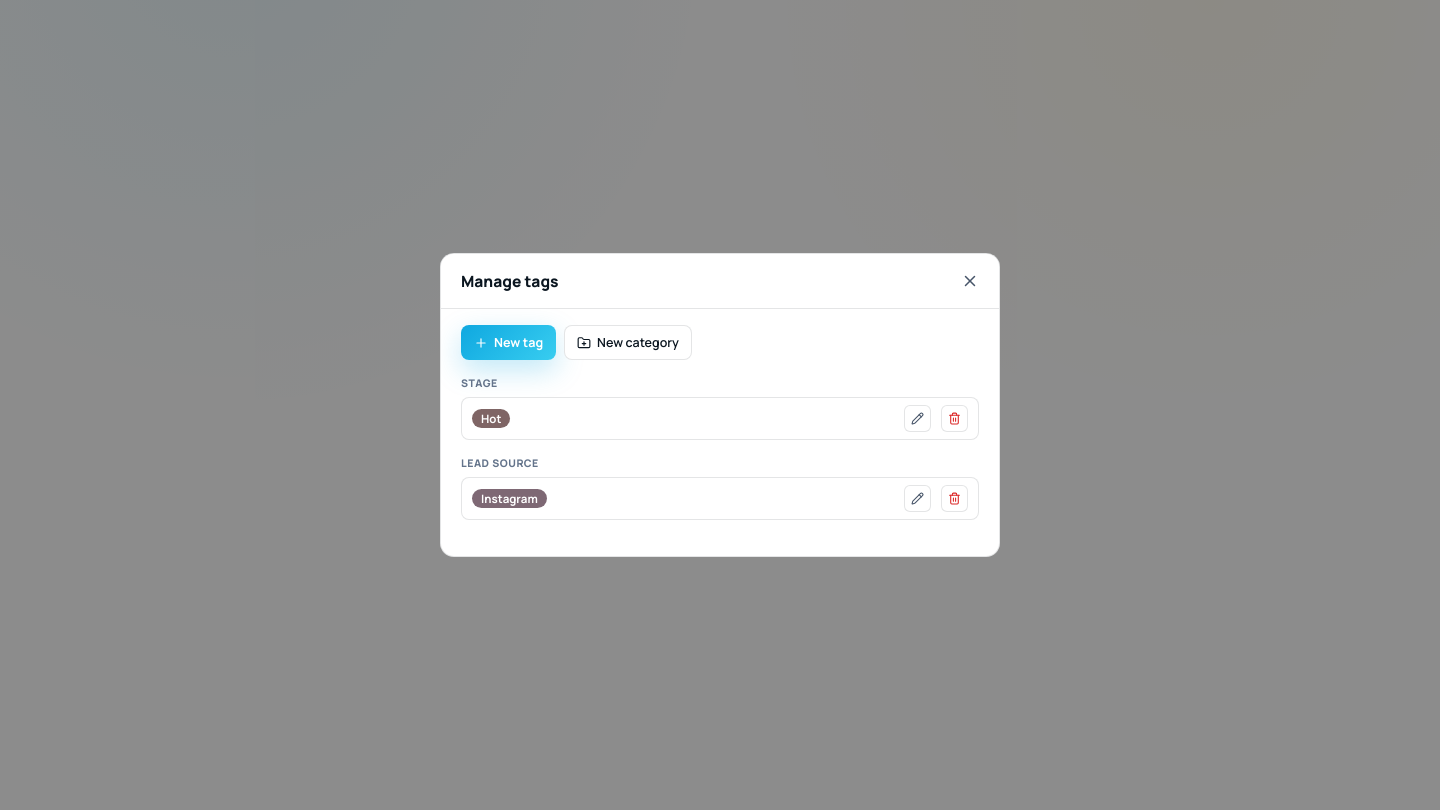
Test: ManageTagsModal › re-enables the form after a SUCCESSFUL save
Click the button "New tag" at {"x": 509, "y": 342}, box [461, 325, 556, 360]
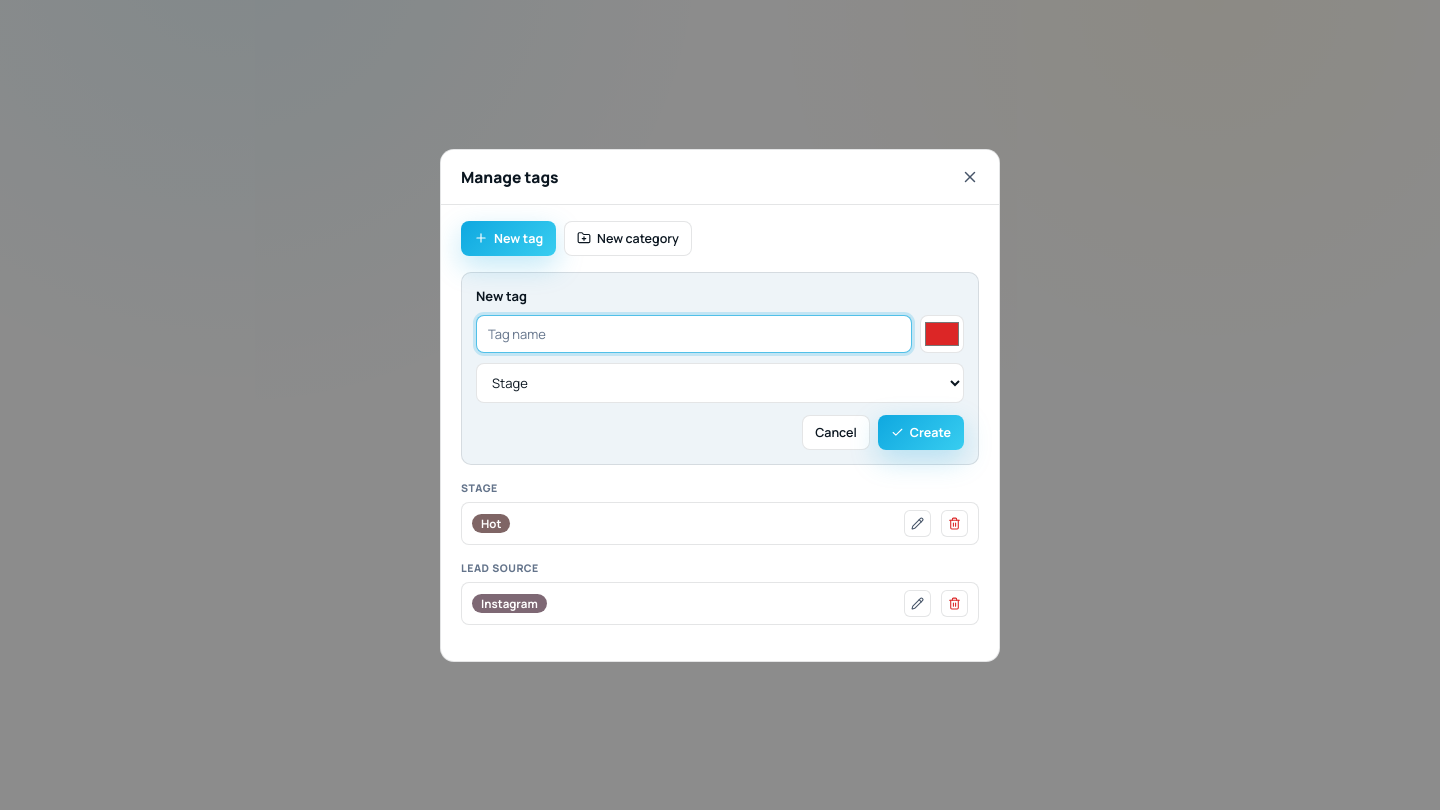
Type "Warm" into the field with placeholder "Tag name" at {"x": 694, "y": 334}, box [476, 314, 912, 352]
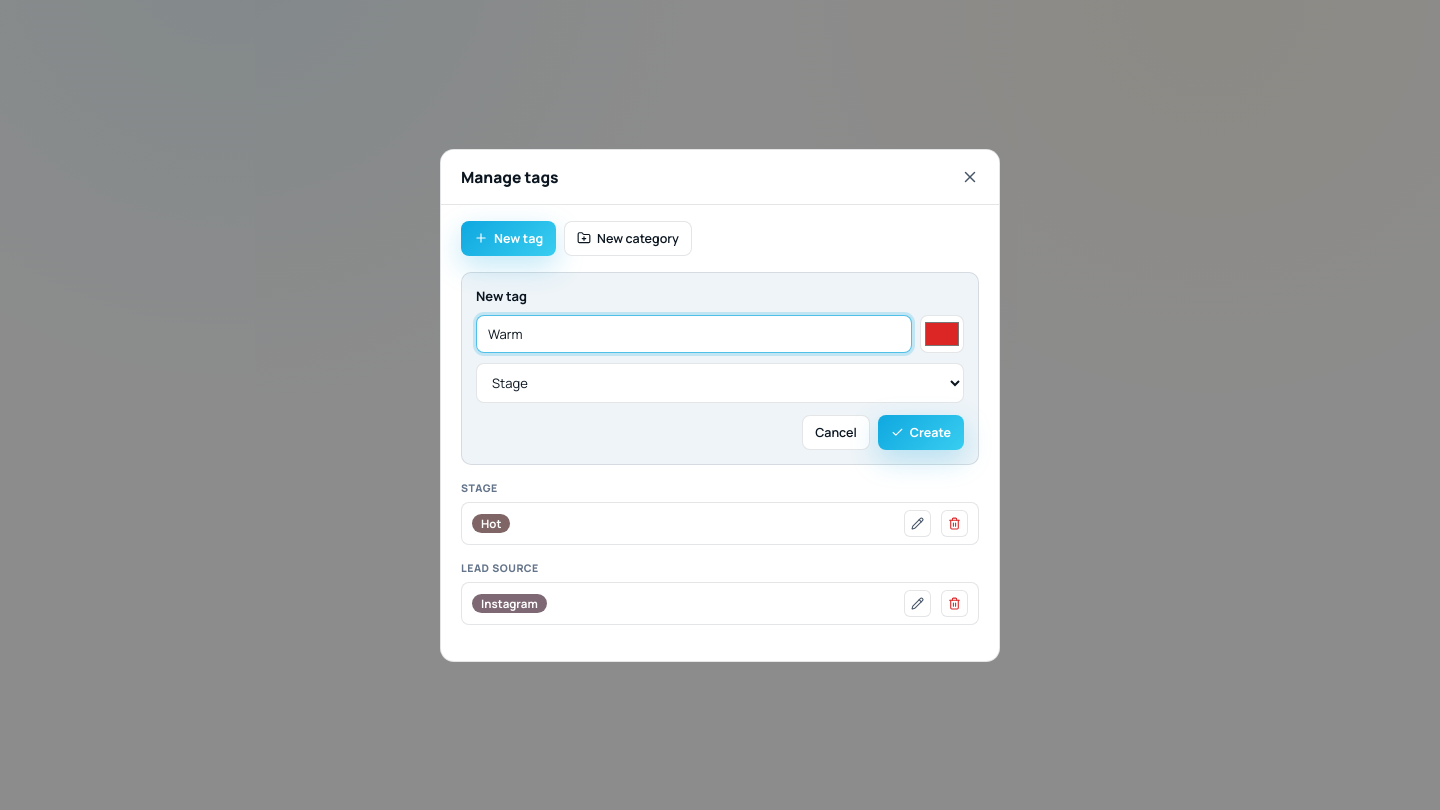
Select "Stage" in the dropdown named "Category" at {"x": 720, "y": 382}, box [476, 362, 964, 402]
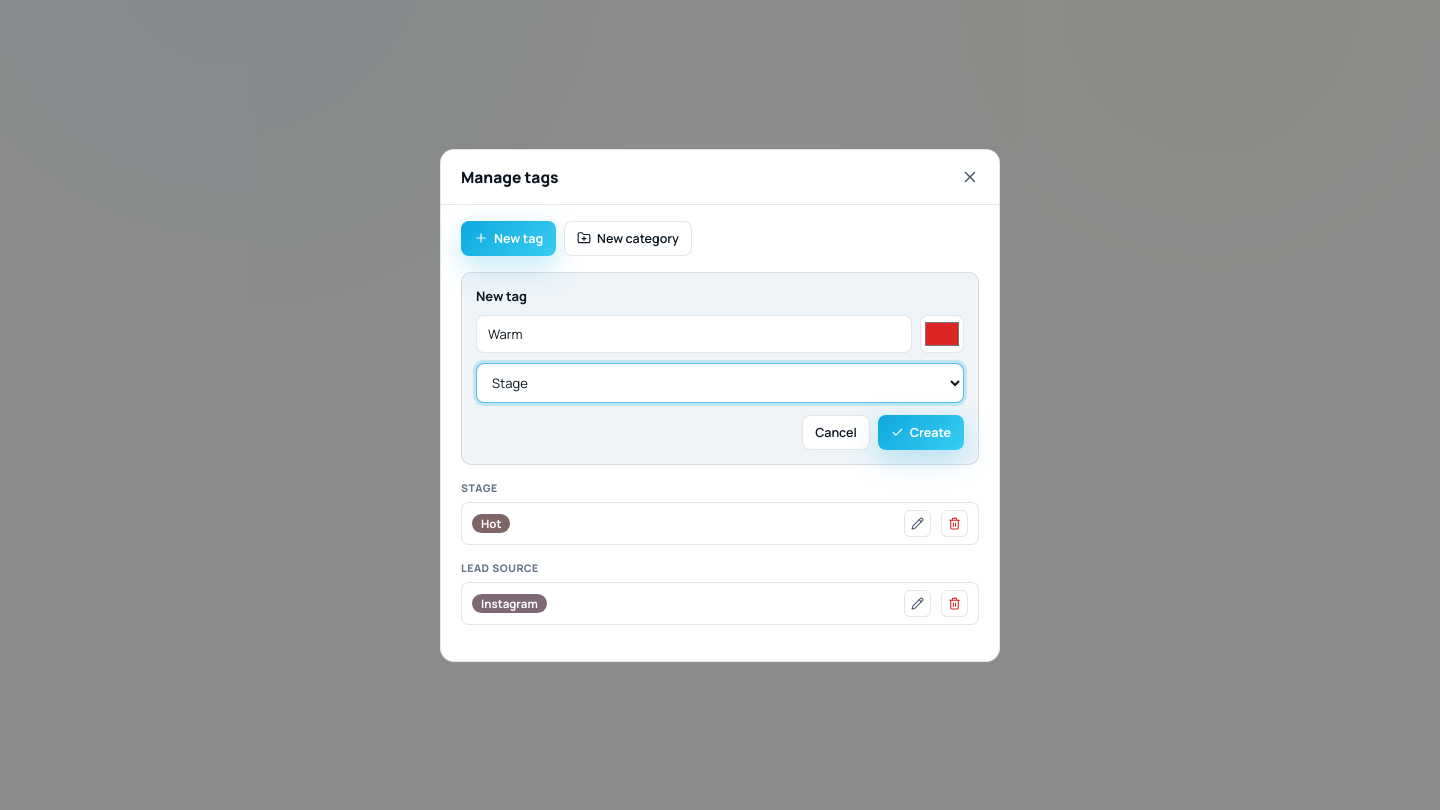
Click the button "Create" at {"x": 921, "y": 432}, box [878, 414, 964, 450]
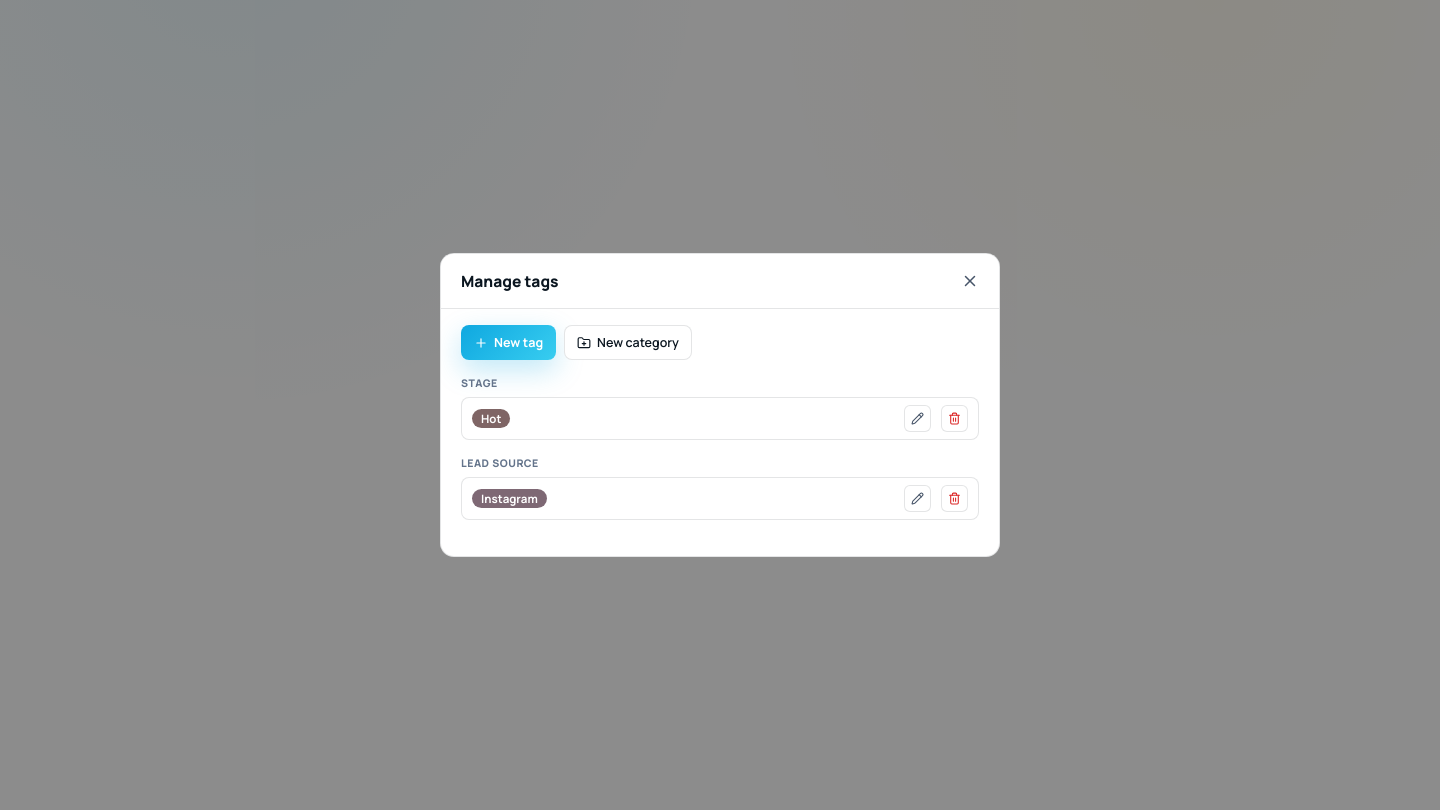
Click the button "New tag" at {"x": 509, "y": 342}, box [461, 325, 556, 360]
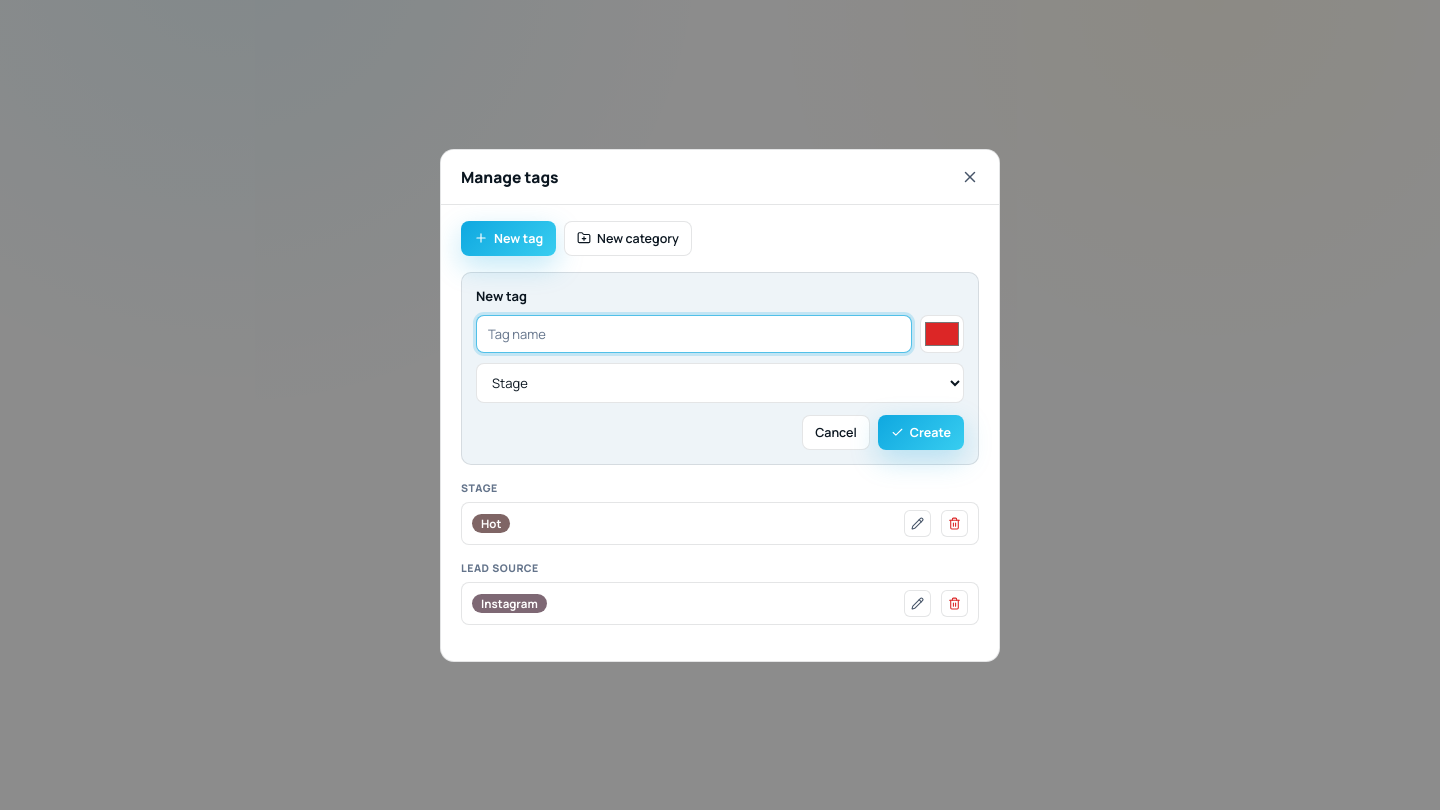
Result: the button "Create" is enabled at [878, 414, 964, 450]
